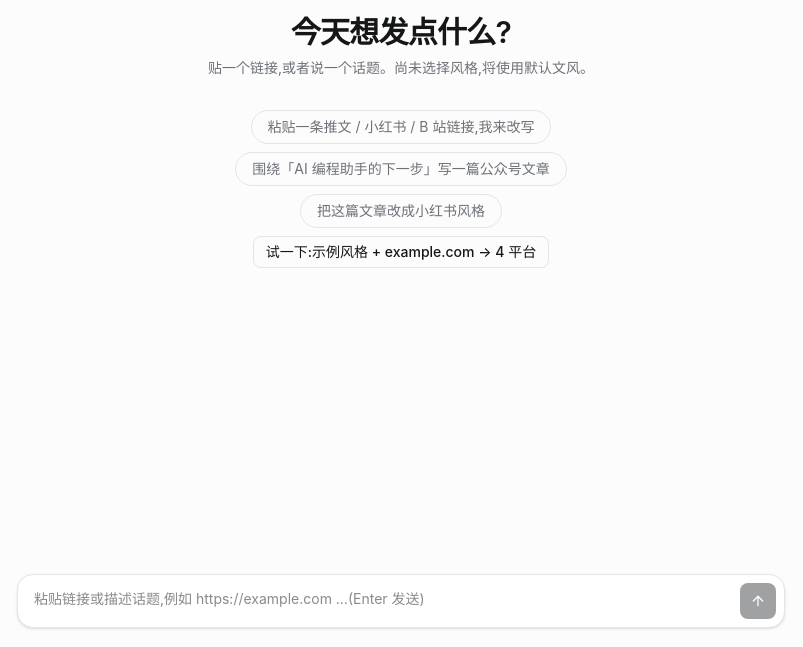
Chat › 试一下 failure shows the error
The width and height of the screenshot is (803, 647).
Click the button "试一下:示例风格 + example.com → 4 平台".
click(401, 252)  # box left=253, top=236, right=549, bottom=268
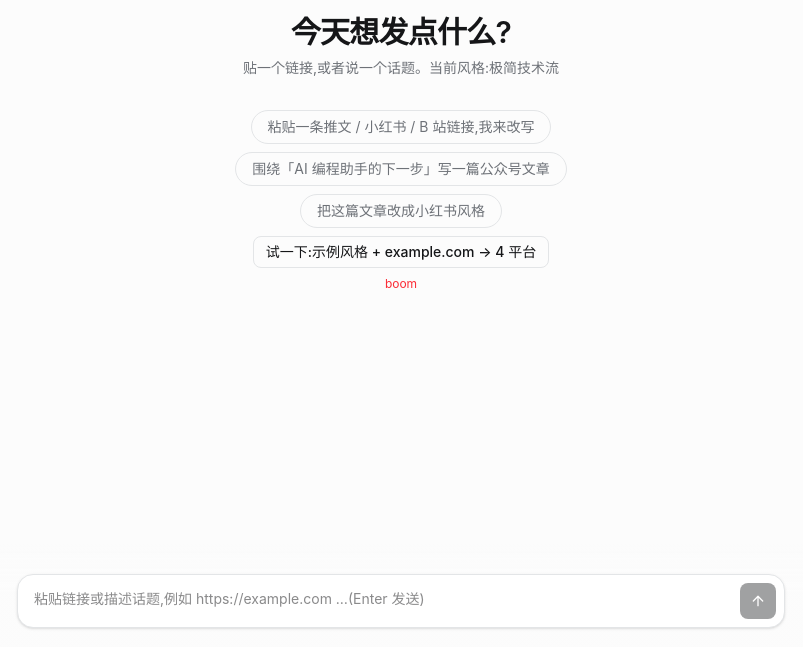
Expected: the text "boom" is shown, left=385, top=276, right=417, bottom=292
